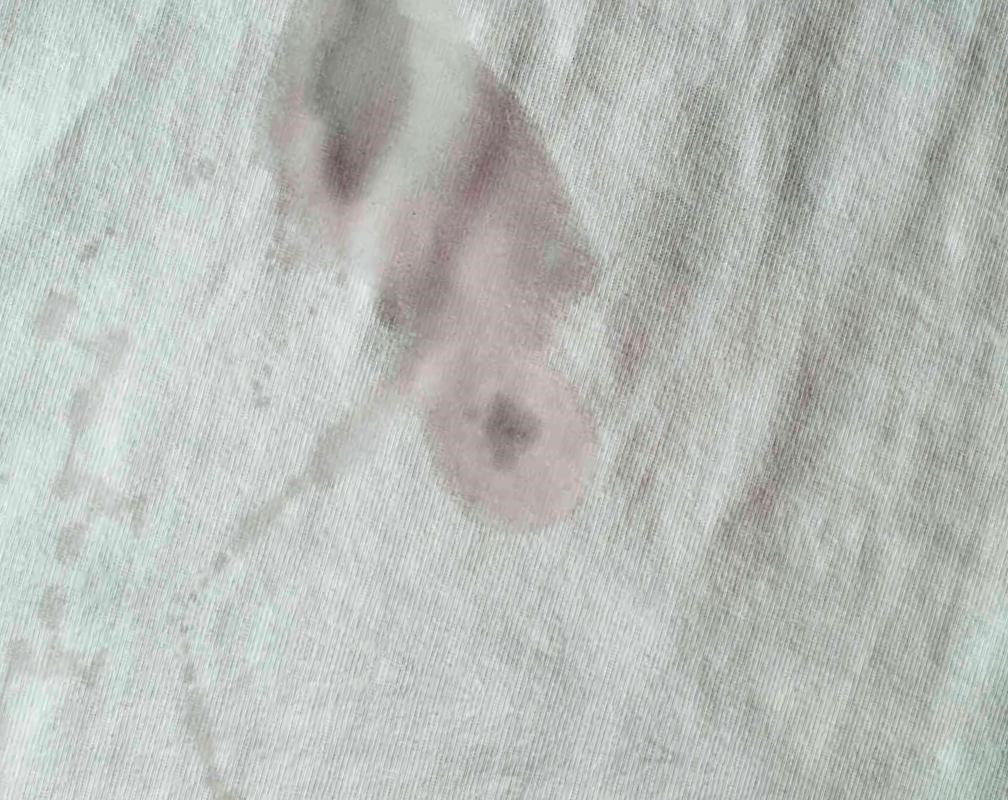stain: (223, 2, 640, 541)
